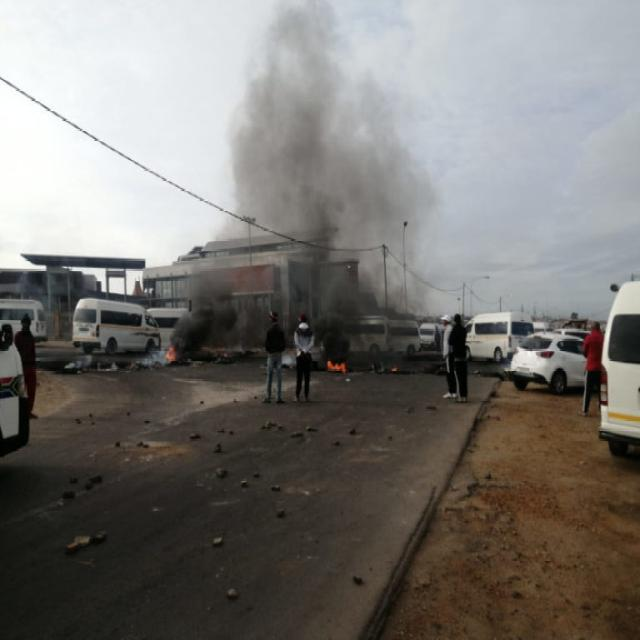Smoke: (245, 61, 420, 304)
